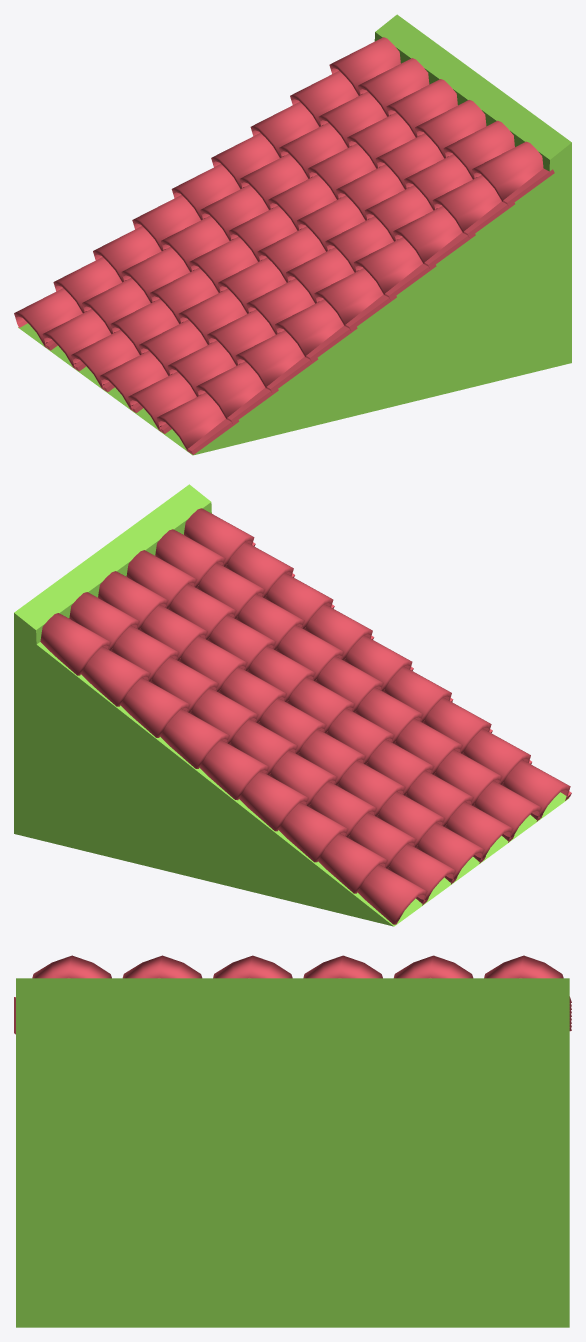
The model's file is TejadoDe3.fbx.
3 views of the same model, one above another, from view 1: azimuth 30°, elevation 25°; view 2: azimuth 150°, elevation 25°; view 3: azimuth 270°, elevation 25° (orthographic). The views are drawn at different scales.
Visible parts, largest first — view 1: Tejado.001, Cube.016; view 2: Tejado.001, Cube.016; view 3: Cube.016, Tejado.001.
Part boxes in pixels (x1,y1,x2,y2): Tejado.001: [14, 37, 554, 454]; Cube.016: [18, 14, 571, 455]; Tejado.001: [40, 508, 571, 924]; Cube.016: [14, 484, 569, 926]; Cube.016: [16, 978, 569, 1327]; Tejado.001: [14, 955, 571, 1034].
Bounding box in the file's own units: 493 × 267 × 386.
